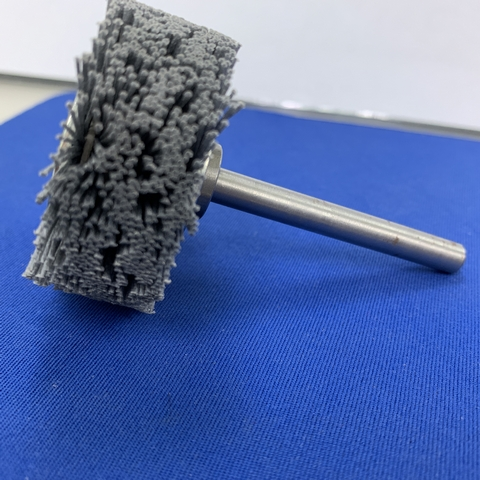Wheel Brush: (1, 19, 470, 302), (24, 1, 429, 314), (5, 1, 264, 327)
